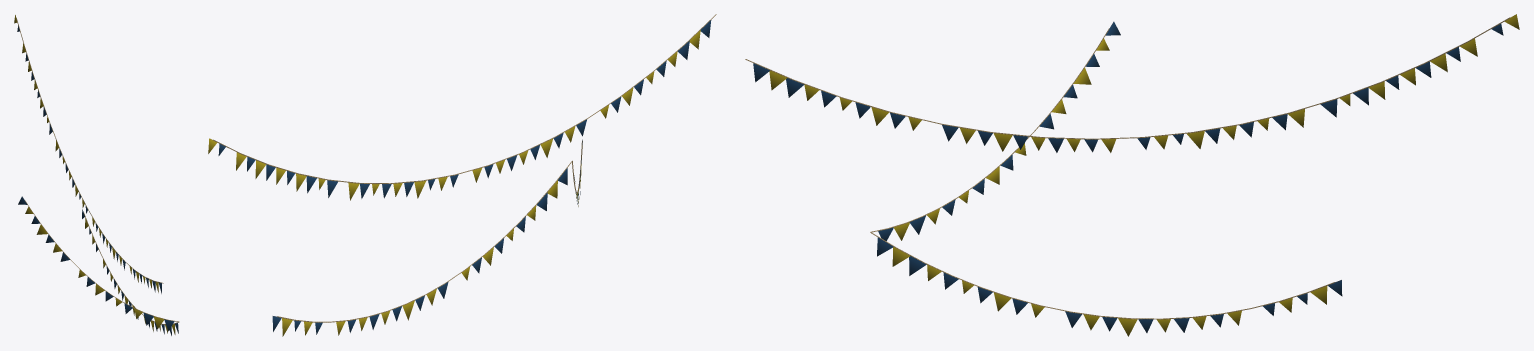
File: MSH_Vimplar_001.fbx
3 renders of one model, left to right at view 1: azimuth 30°, elevation 25°; view 2: azimuth 150°, elevation 25°; view 3: azimuth 270°, elevation 25°, orthographic. The views are drawn at different scales.
Parts seen in each view (by area): view 1: MSH_Vimplar.001; view 2: MSH_Vimplar.001; view 3: MSH_Vimplar.001.
Part boxes in pixels (x1,y1,x2,y2): MSH_Vimplar.001: (14,15,179,335); MSH_Vimplar.001: (208,14,716,336); MSH_Vimplar.001: (745,14,1519,336).
Bounding box in the file's own units: 1415 × 2081 × 4422.
